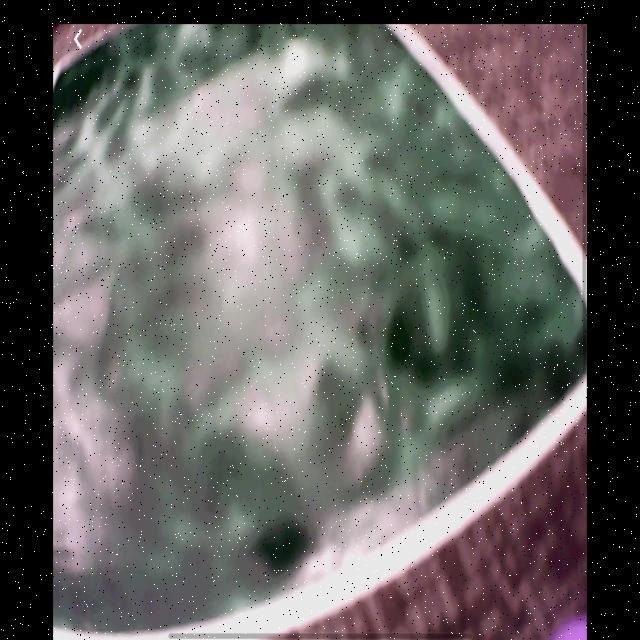ball: (555, 617, 588, 640)
